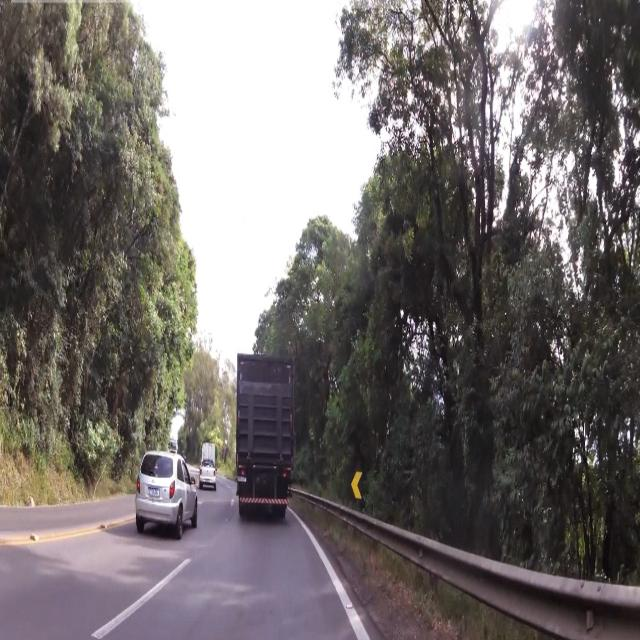Del: (347, 466, 366, 510)
